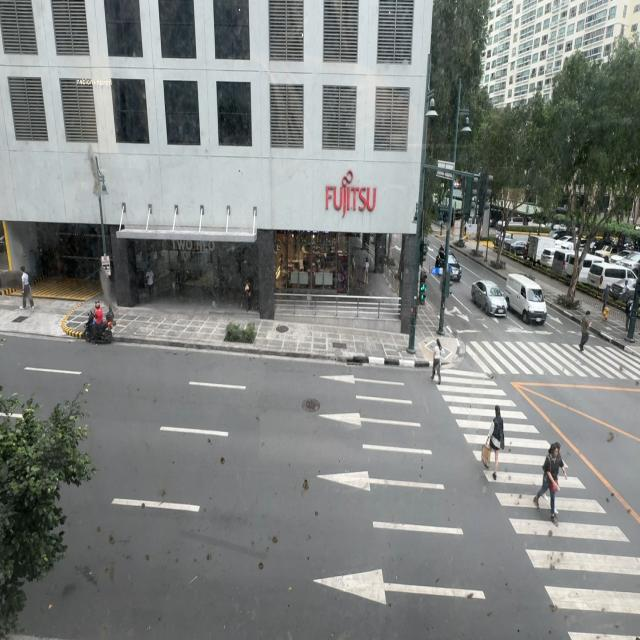crossing: (532, 439, 566, 524), (486, 408, 505, 480), (21, 266, 35, 310), (579, 309, 592, 353), (430, 339, 442, 382), (602, 282, 610, 312)
